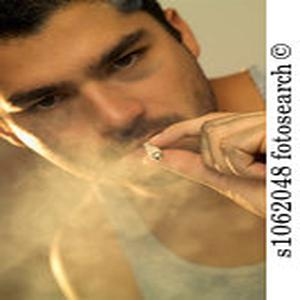cigarette: (144, 139, 163, 163)
